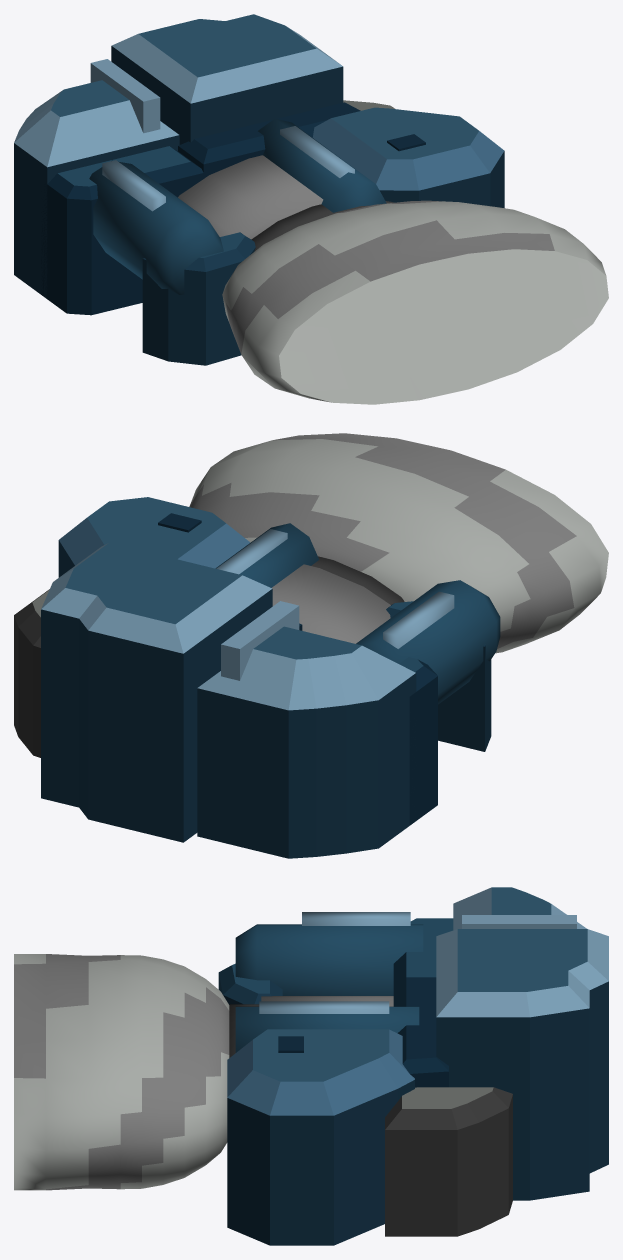
Rendered from newshv-1.glb.
3 views of the same model, one above another, from view 1: azimuth 30°, elevation 25°; view 2: azimuth 150°, elevation 25°; view 3: azimuth 270°, elevation 25° (orthographic). The views are drawn at different scales.
Parts seen in each view (by area): view 1: newshv-1; view 2: newshv-1; view 3: newshv-1.
Boxes of the visible parts, box(x1,y1,x2,y2) form: newshv-1: box(14, 14, 608, 404); newshv-1: box(14, 433, 608, 858); newshv-1: box(14, 887, 608, 1245).
Bounding box in the file's own units: 1.83 × 0.8723 × 2.33.
